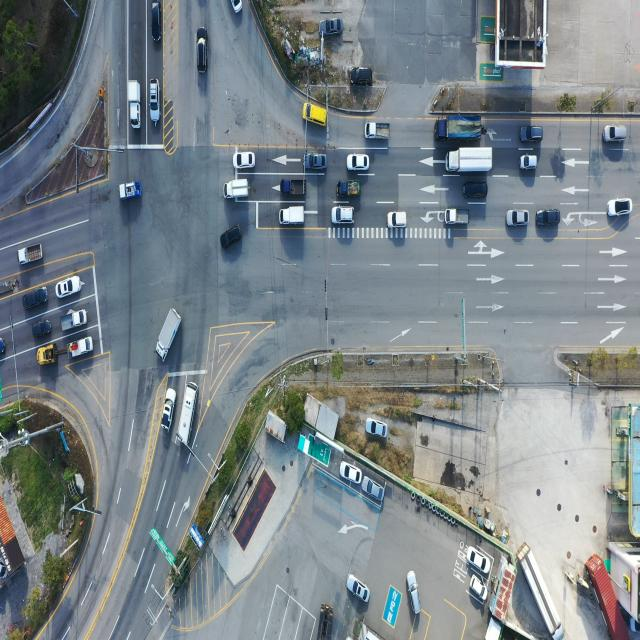car: (219, 224, 242, 252), (347, 574, 370, 602), (408, 570, 422, 616), (56, 275, 82, 299), (162, 388, 176, 432), (364, 478, 386, 504), (23, 287, 48, 309), (470, 574, 489, 602), (304, 104, 328, 126), (148, 81, 160, 123), (349, 66, 374, 86), (606, 199, 632, 218), (198, 34, 210, 75), (333, 206, 357, 226), (470, 550, 490, 574), (364, 418, 386, 439), (341, 462, 362, 484), (320, 18, 343, 38), (464, 182, 489, 200), (150, 0, 160, 44), (603, 126, 627, 144), (521, 126, 545, 144), (508, 209, 531, 227), (305, 154, 328, 172), (538, 210, 561, 228), (347, 156, 370, 173), (234, 151, 255, 169), (387, 210, 408, 228), (32, 320, 52, 338), (520, 156, 538, 171), (229, 0, 244, 14), (0, 338, 6, 358)
medium_truck: (520, 542, 566, 638), (154, 309, 181, 363), (433, 114, 485, 142), (447, 147, 496, 173), (319, 604, 335, 640)
small_bus: (174, 382, 197, 448)
small_truck: (129, 80, 143, 128), (222, 181, 250, 204), (60, 309, 87, 332), (18, 244, 44, 266), (69, 337, 95, 359), (278, 206, 305, 227), (364, 122, 390, 142), (279, 178, 306, 197), (119, 183, 144, 203), (445, 208, 471, 226), (338, 179, 362, 198)
